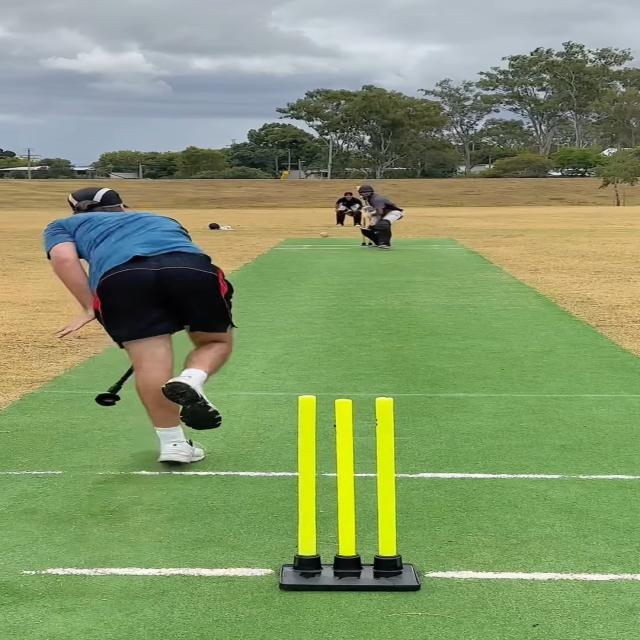ball: (319, 231, 331, 239)
stump: (280, 394, 421, 595)
